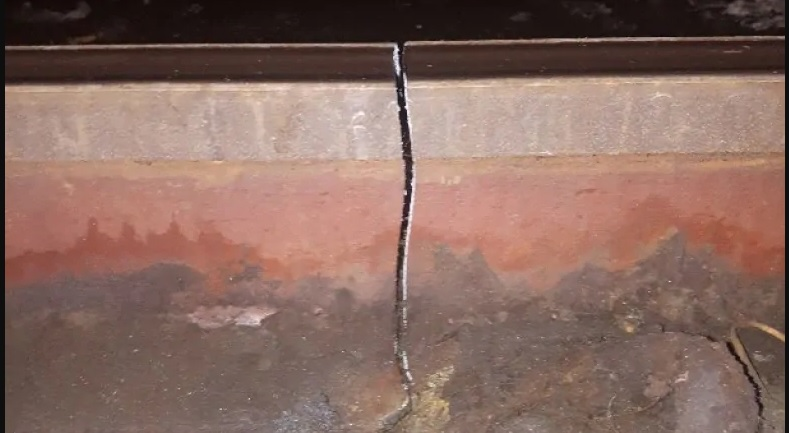crack: (312, 24, 509, 433)
